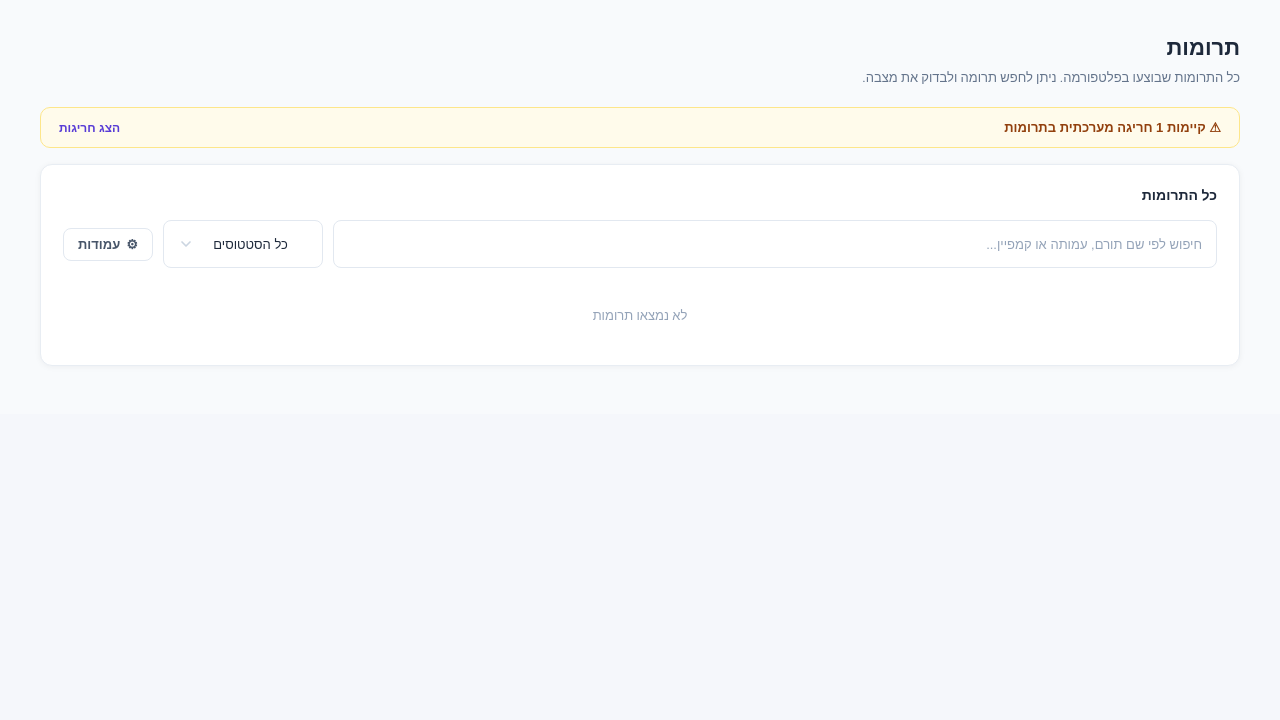
Scenario: PlatformCardcomOpsPageComponent - drawer donation/campaign context › shows campaign title/association once PlatformService.getCampaign (the existing campaign-detail endpoint) responds
Click the button with class "ops-anomaly-bar".
click(1080, 128)  # box [40,107,1240,148]
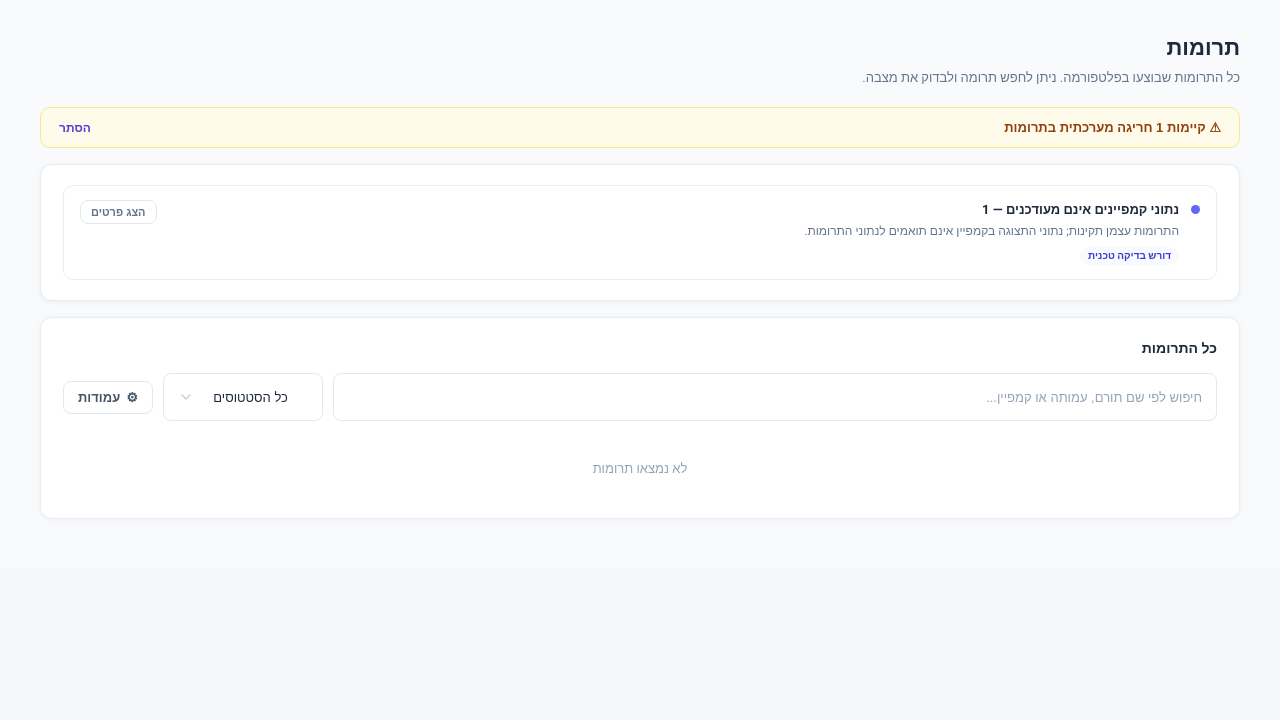
Click the button "הצג פרטים".
click(118, 212)  # box [80,200,157,224]
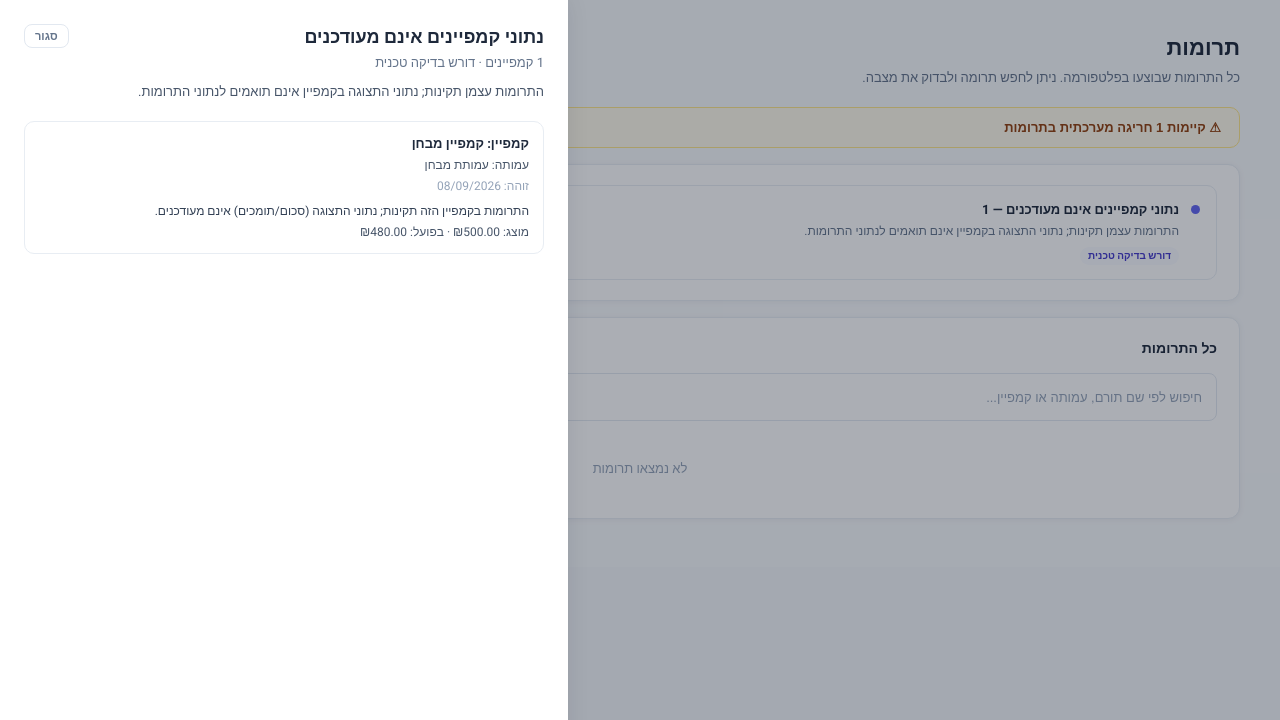
Expected: the text "התרומות עצמן תקינות" is shown, [804,222,1179,240]
Expected: the text "קמפיין: קמפיין מבחן" is shown, [412,134,529,153]
Expected: the text "עמותת מבחן" is shown, [424,156,529,174]
